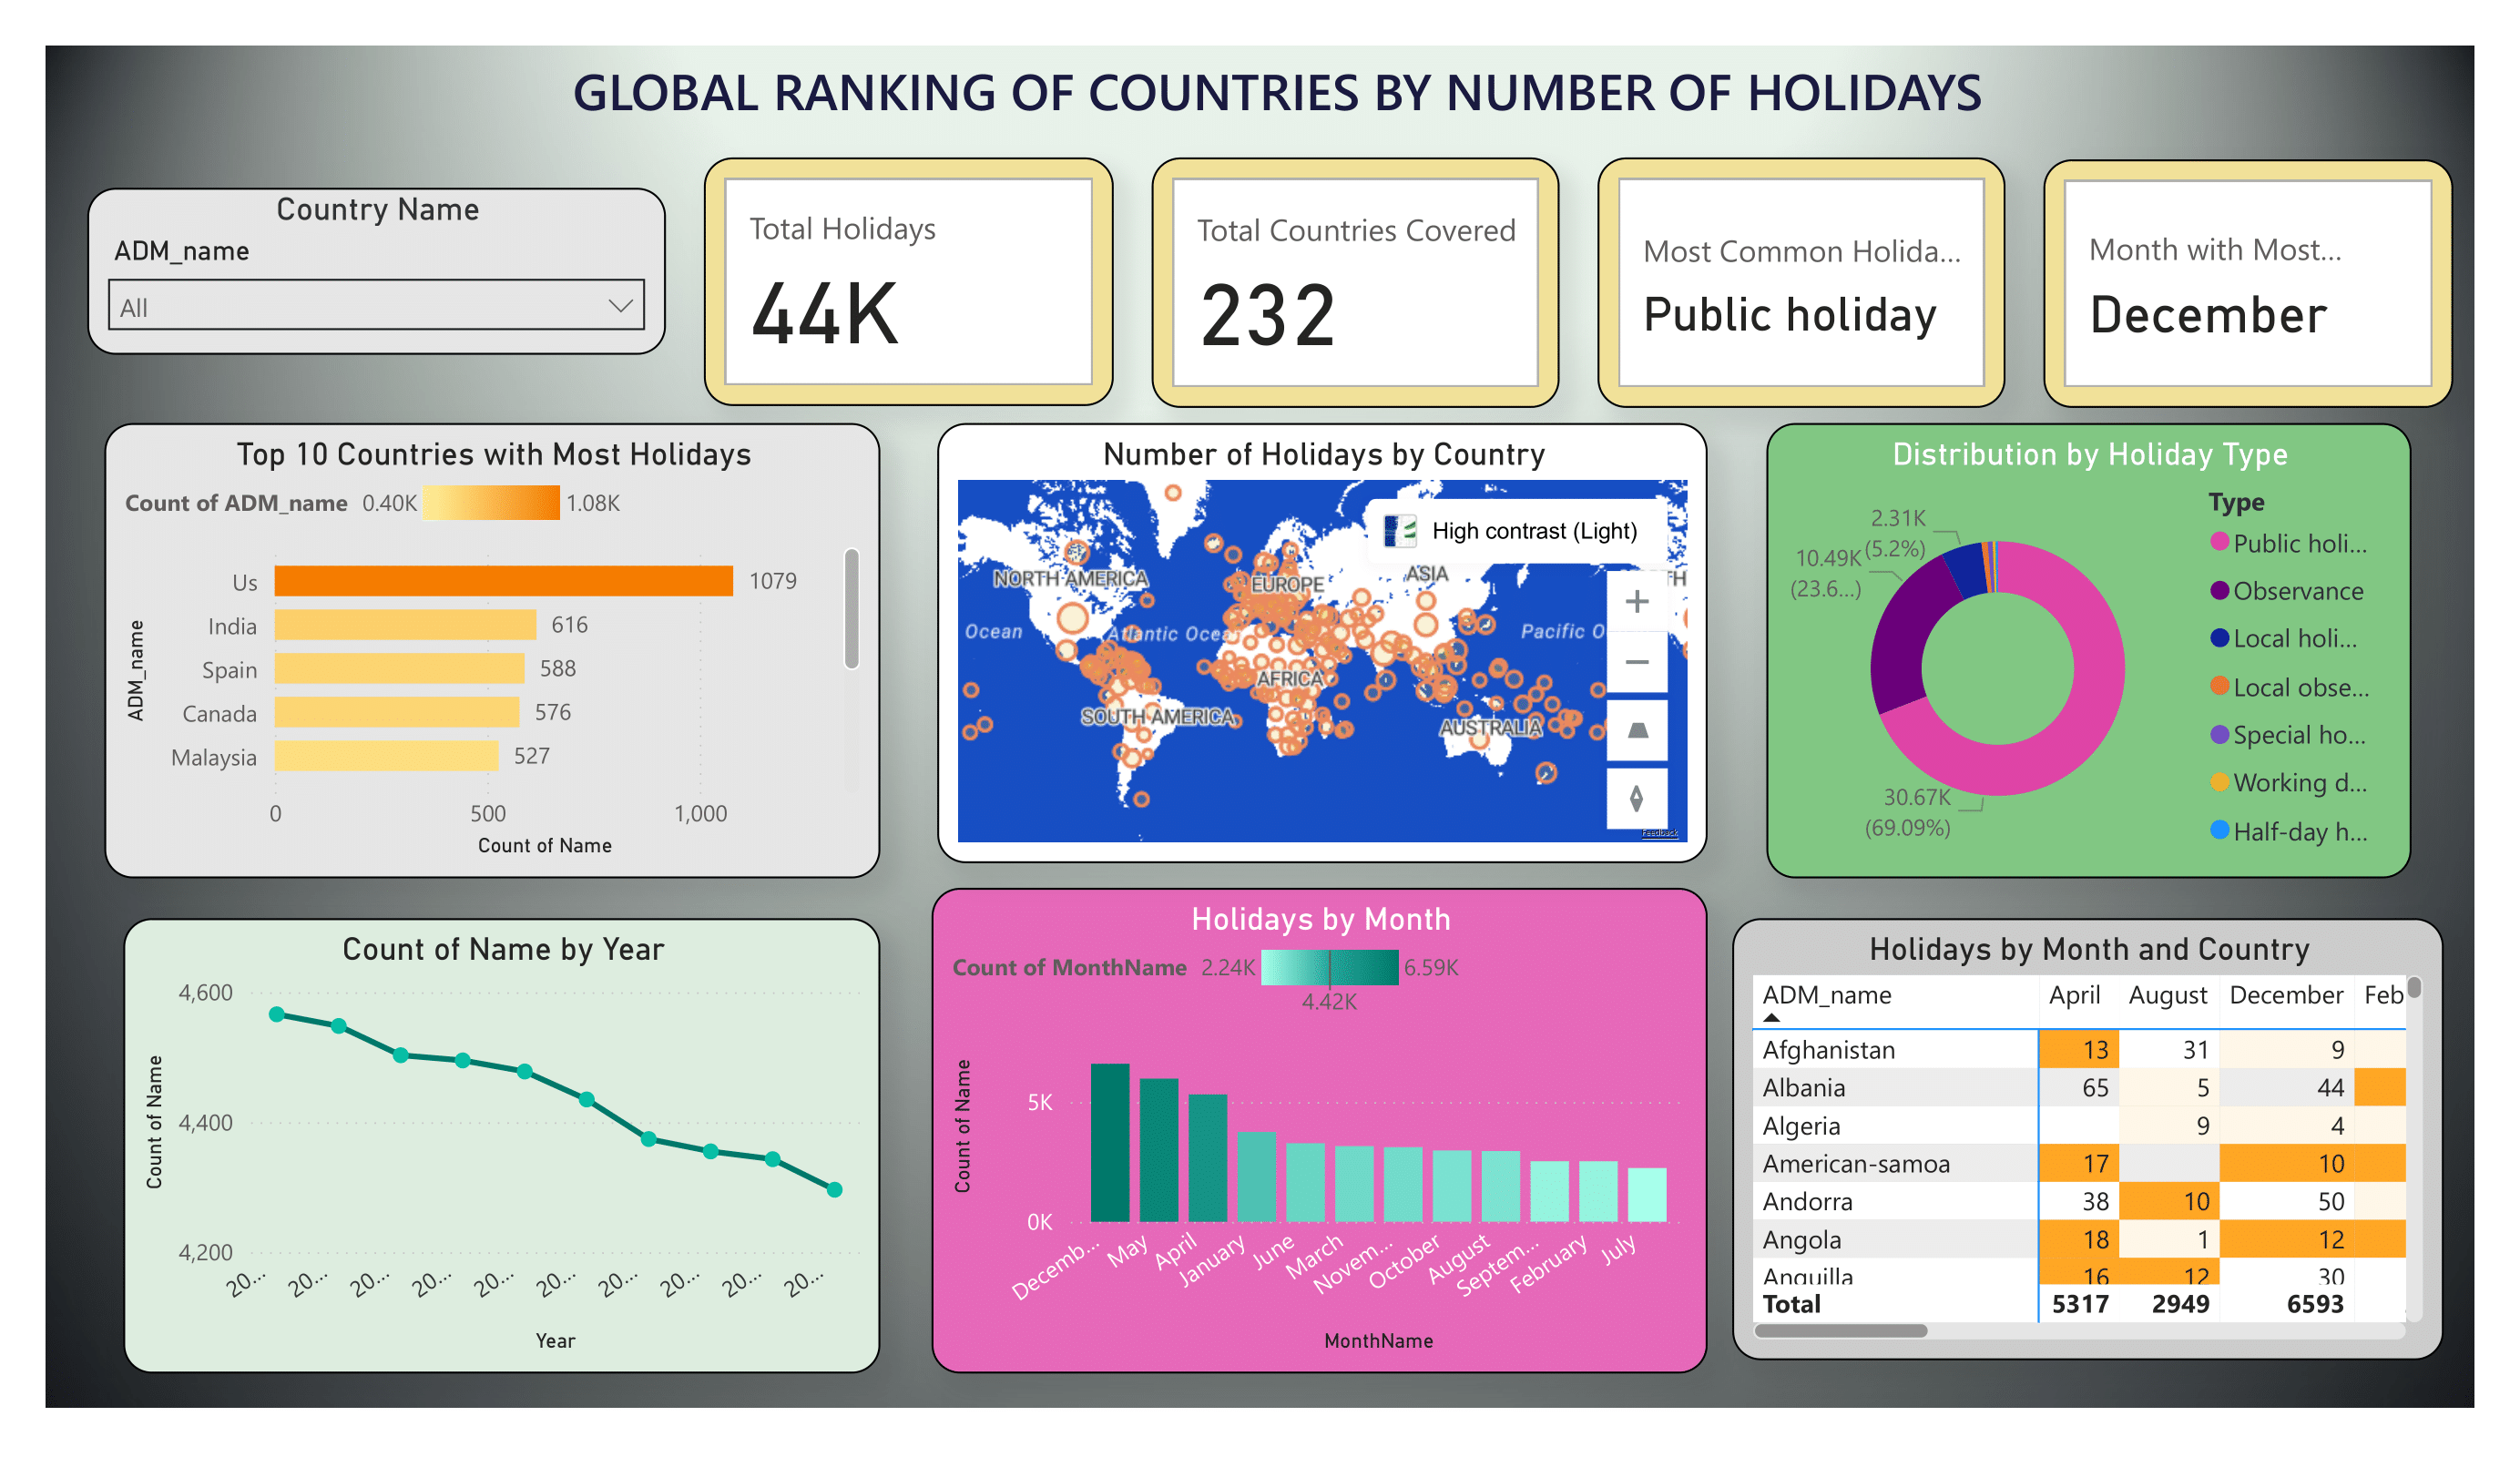

This screenshot's page, from the dashboard's own definition file:
{"tool":"powerbi","page":{"name":"Page 2","canvas":[1280,720],"ordinal":2},"visuals":[{"type":"cardVisual","fields":{"Data":["global_holidays (1).Measure 2"]},"box":[346.8,58.6,215.7,131.4],"z":0},{"type":"cardVisual","fields":{"Data":["global_holidays (1).Measure 3"]},"box":[582.6,58.6,215.7,132.9],"z":1000},{"type":"cardVisual","fields":{"Data":["global_holidays.Most Common Holiday Type"]},"box":[818.5,58.6,214.3,132.9],"z":2000},{"type":"cardVisual","fields":{"Data":["global_holidays.Month with Most Holidays"]},"box":[1052.9,60,215.7,131.4],"z":3000},{"type":"clusteredColumnChart","title":"Holidays by Month","fields":{"Category":["global_holidays.MonthName"],"Y":["CountNonNull(global_holidays.Name)"]},"box":[467.1,444.3,408.6,255.7],"z":4000},{"type":"azureMap","title":"Number of Holidays by Country","fields":{"Category":["global_holidays.ISO3"],"Size":["CountNonNull(global_holidays.Name)"]},"box":[470,198.6,405.7,232.9],"z":5000},{"type":"clusteredBarChart","title":"Top 10 Countries with Most Holidays","fields":{"Category":["global_holidays.ADM_name"],"Y":["CountNonNull(global_holidays.Name)"]},"box":[31.4,198.6,408.6,240],"z":6000},{"type":"pivotTable","title":"Holidays by Month and Country","fields":{"Rows":["global_holidays.ADM_name"],"Columns":["global_holidays.MonthName"],"Values":["CountNonNull(global_holidays.Name)"]},"box":[888.6,460,375.7,232.9],"z":7000},{"type":"donutChart","title":"Distribution by Holiday Type","fields":{"Category":["global_holidays.Type"],"Y":["CountNonNull(global_holidays.Name)"]},"box":[907.1,198.6,340,240],"z":8000},{"type":"lineChart","fields":{"Category":["global_holidays.Year"],"Y":["CountNonNull(global_holidays.Name)"]},"box":[41.4,460,398.6,240],"z":9000},{"type":"slicer","title":"Country Name","fields":{"Values":["global_holidays.ADM_name"]},"box":[21.7,75,305,88.3],"z":10000},{"type":"textbox","box":[273.3,0,786.7,58.3],"z":11000}]}

Visuals, with their boxes in screenshot pixels (x1, y1, x2, y2):
cardVisual - global_holidays (1).Measure 2: (left=704, top=157, right=1113, bottom=406)
cardVisual - global_holidays (1).Measure 3: (left=1151, top=157, right=1560, bottom=409)
cardVisual - global_holidays.Most Common Holiday Type: (left=1598, top=157, right=2005, bottom=409)
cardVisual - global_holidays.Month with Most Holidays: (left=2044, top=159, right=2453, bottom=409)
"Holidays by Month" clusteredColumnChart: (left=932, top=889, right=1708, bottom=1373)
"Number of Holidays by Country" azureMap: (left=937, top=423, right=1708, bottom=864)
"Top 10 Countries with Most Holidays" clusteredBarChart: (left=105, top=423, right=881, bottom=878)
"Holidays by Month and Country" pivotTable: (left=1731, top=918, right=2444, bottom=1360)
"Distribution by Holiday Type" donutChart: (left=1767, top=423, right=2412, bottom=878)
lineChart - global_holidays.Year x CountNonNull(global_holidays.Name): (left=124, top=918, right=881, bottom=1373)
"Country Name" slicer: (left=87, top=188, right=666, bottom=355)
textbox: (left=564, top=46, right=2057, bottom=156)
